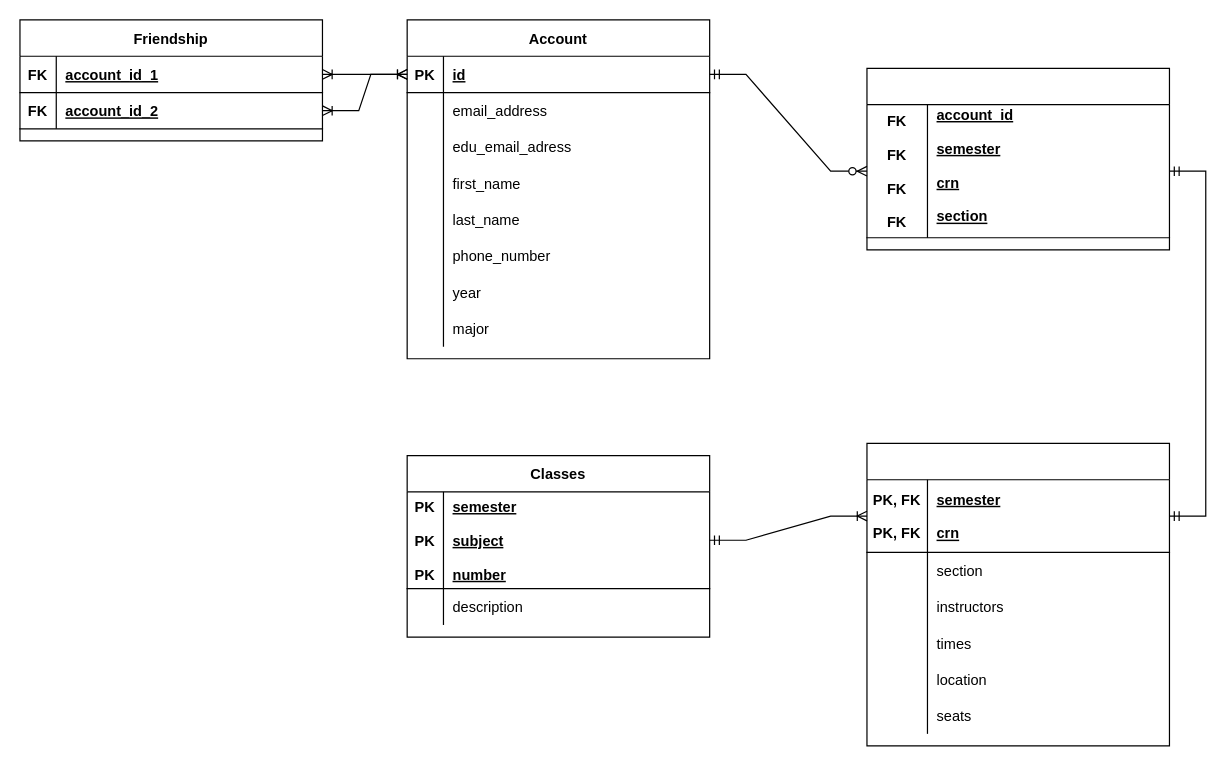
This 1226x766 diagram has some shape labels left out. The shapes that lost their labels are listed below. From the top down, each one's box as (x1, y1, x2, y2) in pixels, then its label:
(866, 67, 1169, 250): Schedules
(866, 442, 1169, 746): Sections
